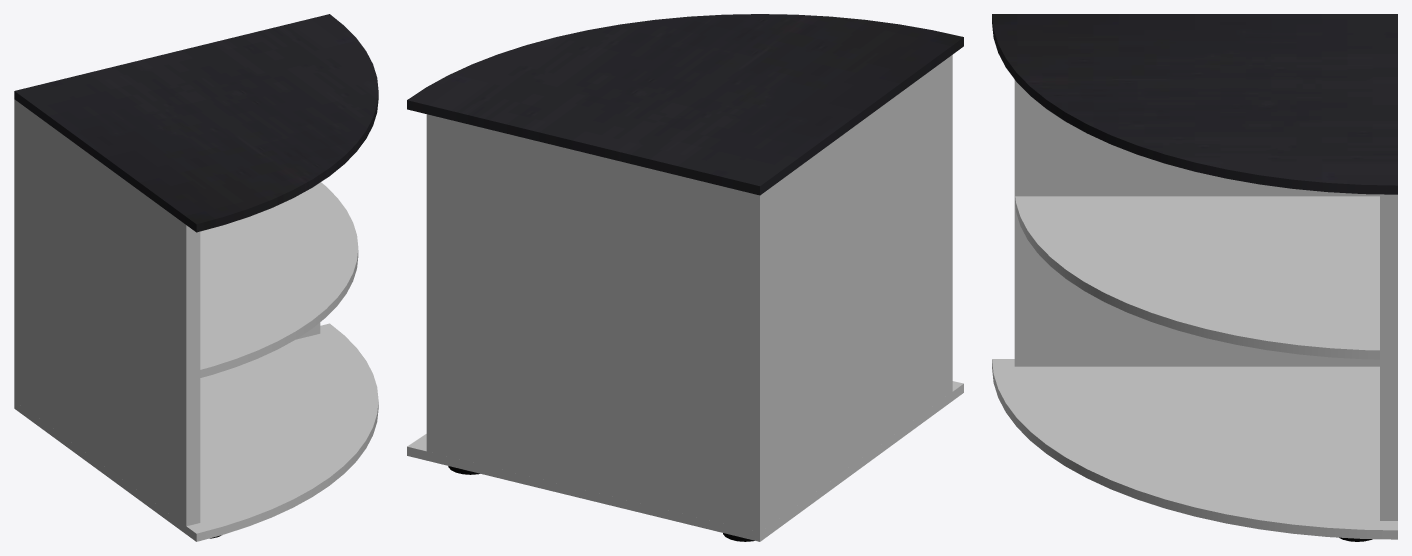
Rendered from sh-lp-angolo80-w.glb.
3 views of the same model, side by side, from view 1: azimuth 30°, elevation 25°; view 2: azimuth 150°, elevation 25°; view 3: azimuth 270°, elevation 25° (orthographic). The views are drawn at different scales.
Visible parts, largest first — view 1: Line60_2, Cylinder70_1, Cylinder73_4; view 2: Line60_2, Cylinder73_4, Cylinder70_1; view 3: Cylinder70_1, Cylinder73_4, Line60_2.
Part boxes in pixels (bbox=[...]): Line60_2: bbox=[14, 99, 320, 526]; Cylinder70_1: bbox=[14, 182, 378, 541]; Cylinder73_4: bbox=[14, 14, 378, 232]; Line60_2: bbox=[426, 55, 952, 532]; Cylinder73_4: bbox=[407, 14, 963, 195]; Cylinder70_1: bbox=[407, 280, 963, 541]; Cylinder70_1: bbox=[992, 196, 1397, 539]; Cylinder73_4: bbox=[992, 14, 1397, 194]; Line60_2: bbox=[1014, 80, 1397, 520].
Size of the model in its own units: 1 by 1 by 1.
Materials: 3 (1 with a texture image).
